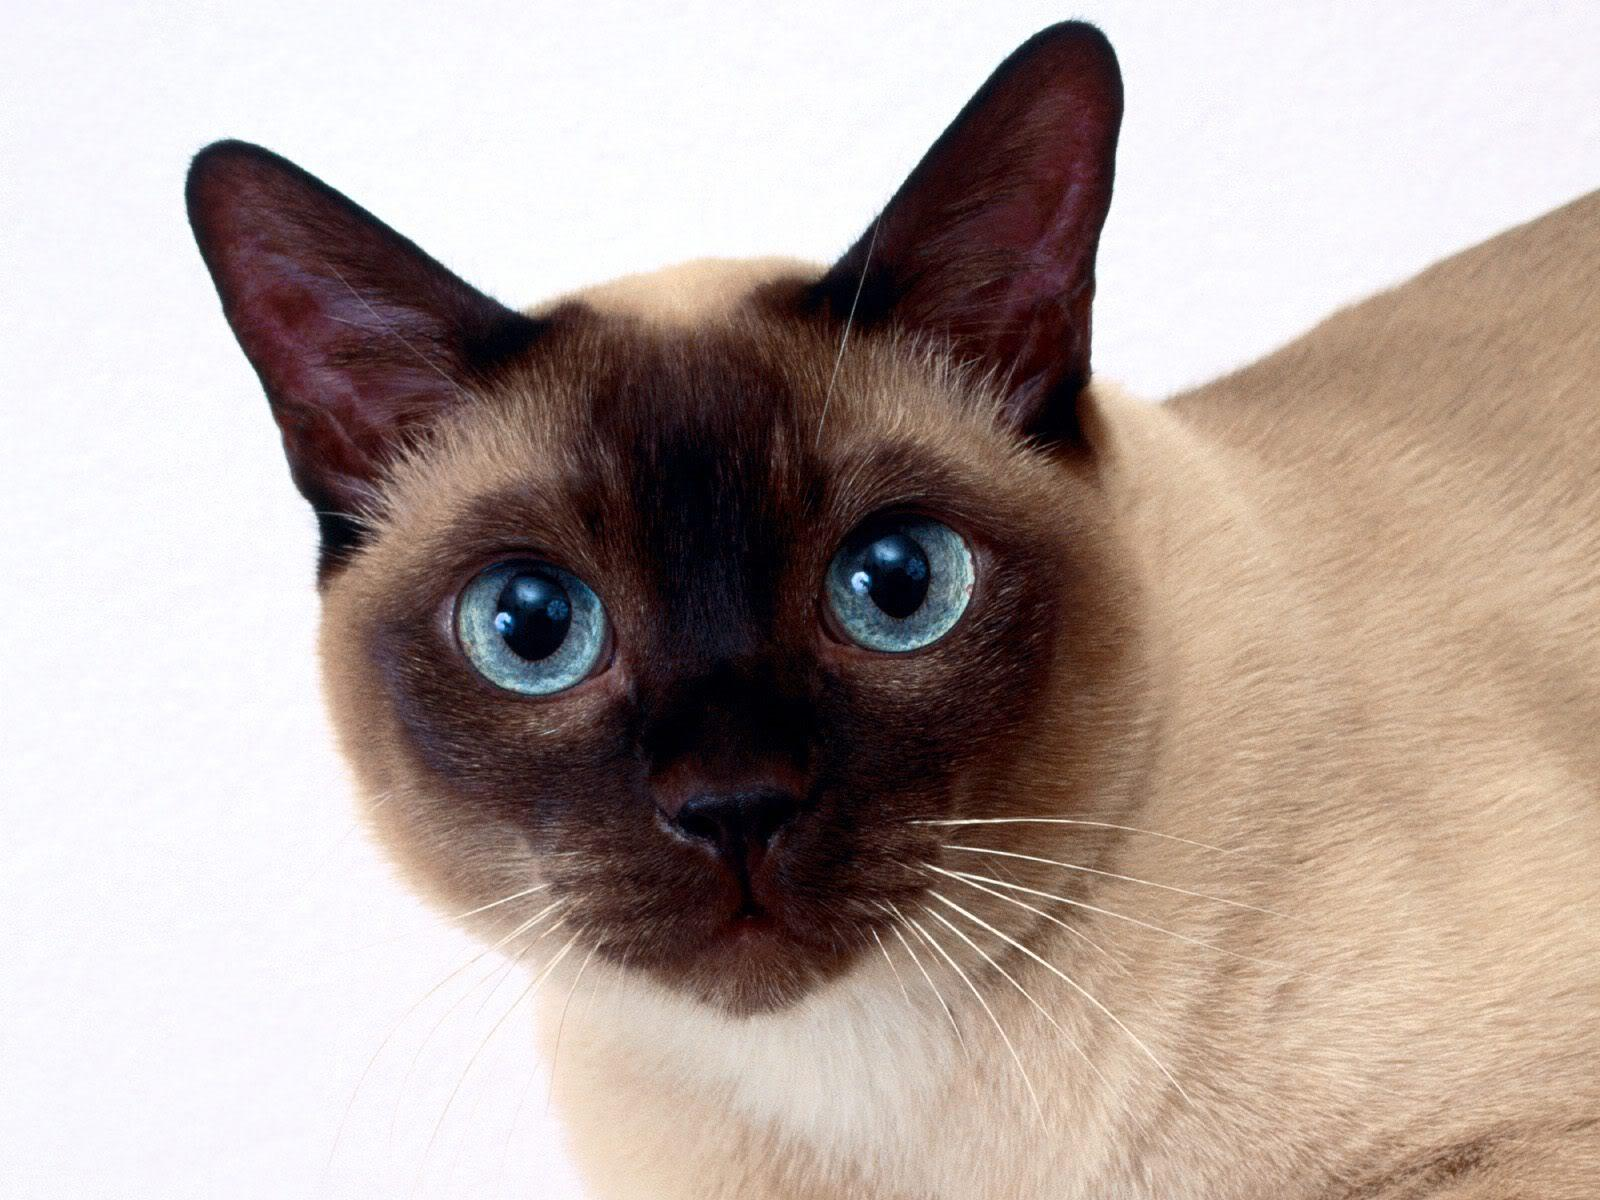siamese: (156, 1, 1204, 1051)
